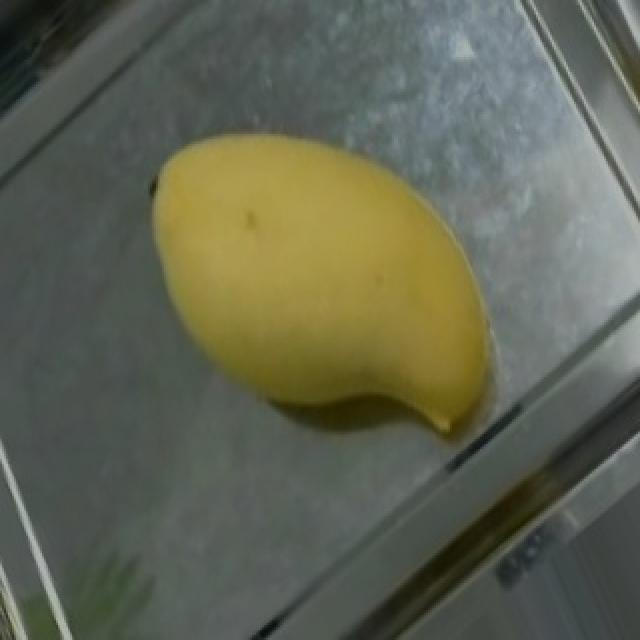fruit: (92, 60, 578, 491)
